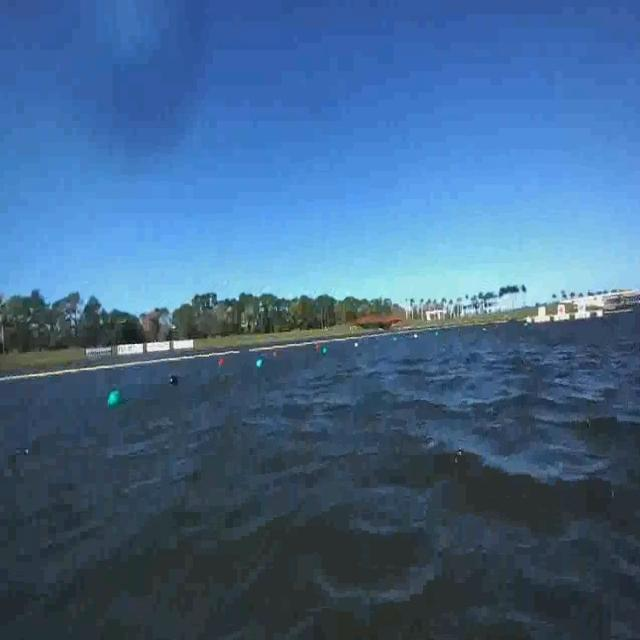green-buoy: (106, 388, 124, 408)
